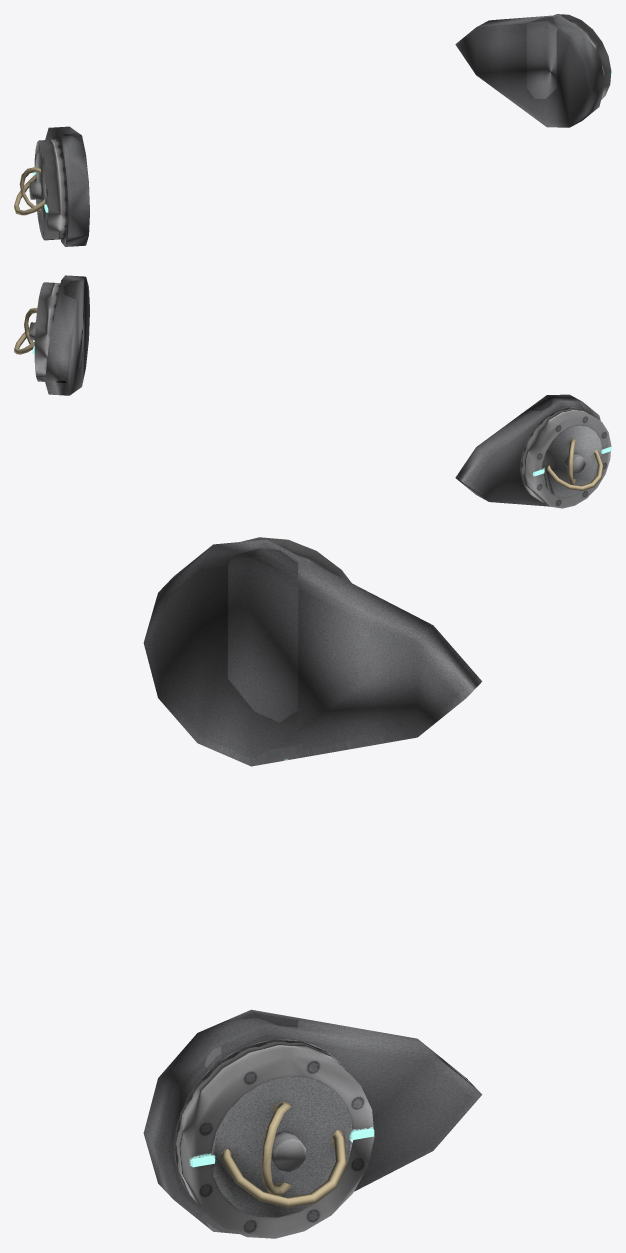
File: vs1_vestibular_stabilizer.gltf
The picture shows the model from 3 angles, top to bottom: view 1: azimuth 30°, elevation 25°; view 2: azimuth 150°, elevation 25°; view 3: azimuth 270°, elevation 25°; orthographic projection. The views are drawn at different scales.
Visible parts, largest first — view 1: B_head__vs1_vestibular_stabilizer; view 2: B_head__vs1_vestibular_stabilizer; view 3: B_head__vs1_vestibular_stabilizer.
Part boxes in pixels (<box>): B_head__vs1_vestibular_stabilizer: <box>14,14,611,246</box>; B_head__vs1_vestibular_stabilizer: <box>14,275,611,508</box>; B_head__vs1_vestibular_stabilizer: <box>143,537,482,1238</box>.
Size of the model in its own units: 0.2533 by 0.044 by 0.0642.
1 material, 1 textured.
